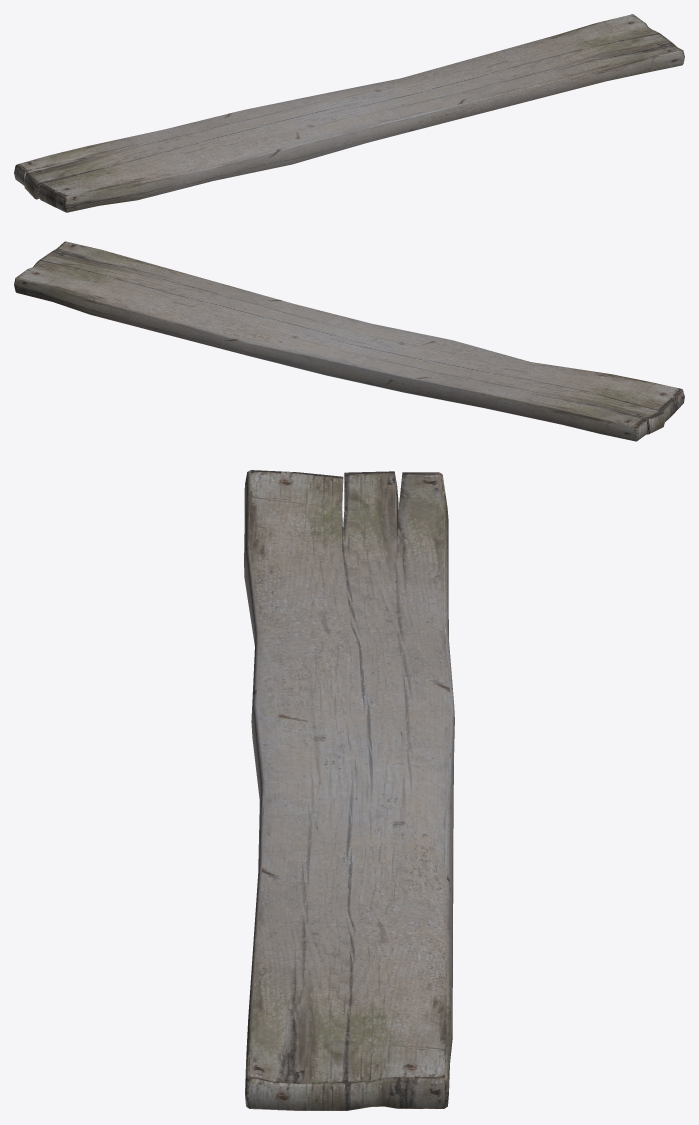
File: SM_WoodPlank_01_09.fbx
3 renders of one model, top to bottom at view 1: azimuth 30°, elevation 25°; view 2: azimuth 150°, elevation 25°; view 3: azimuth 270°, elevation 25°, orthographic. The views are drawn at different scales.
Visible parts, largest first — view 1: sm_WoodPlank_01_09_LOD0; view 2: sm_WoodPlank_01_09_LOD0; view 3: sm_WoodPlank_01_09_LOD0.
Part boxes in pixels (box(x1,y1,x2,y2)): sm_WoodPlank_01_09_LOD0: box(14, 14, 684, 212); sm_WoodPlank_01_09_LOD0: box(14, 241, 684, 441); sm_WoodPlank_01_09_LOD0: box(244, 470, 454, 1110).
Bounding box in the file's own units: 21.86 × 150 × 5.61.
